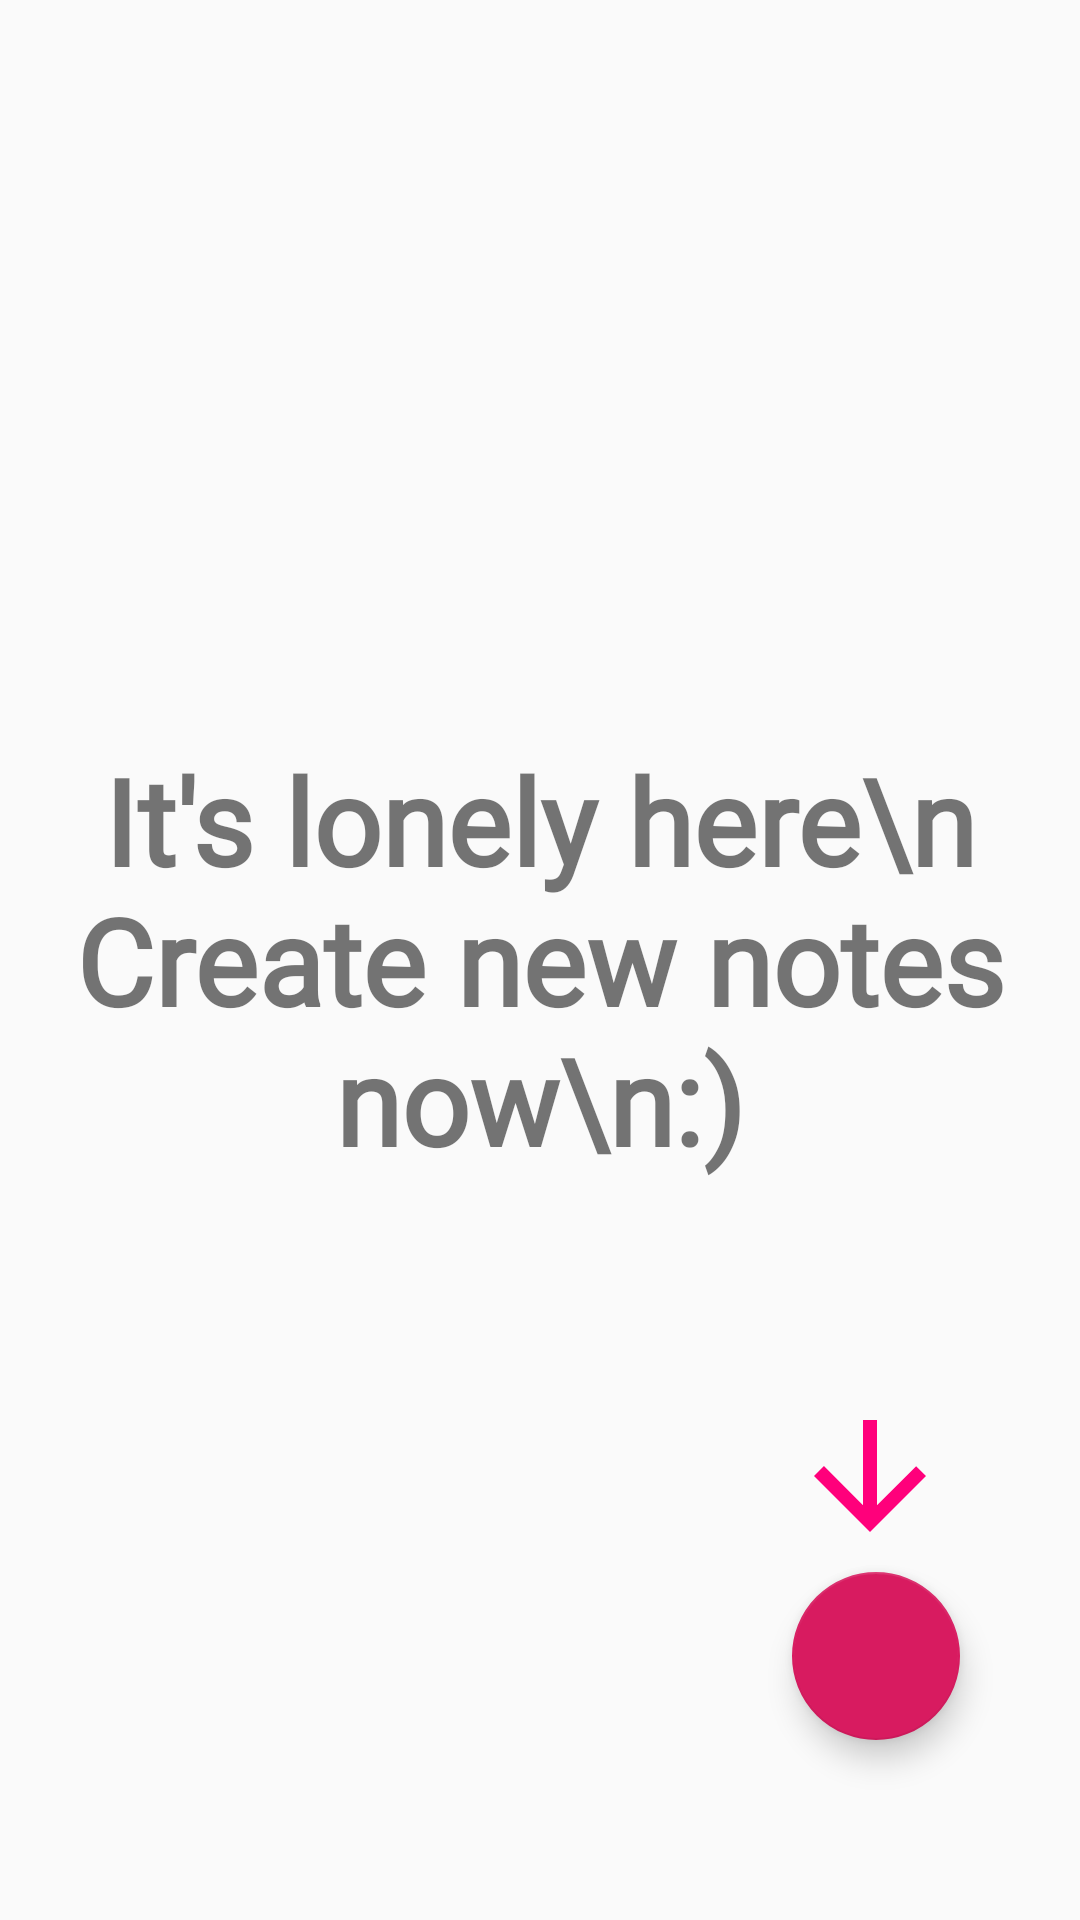

Icon click points for this 1080px×1920px phone screenshot, format [x,y]:
arrow downward: [870,1476]
